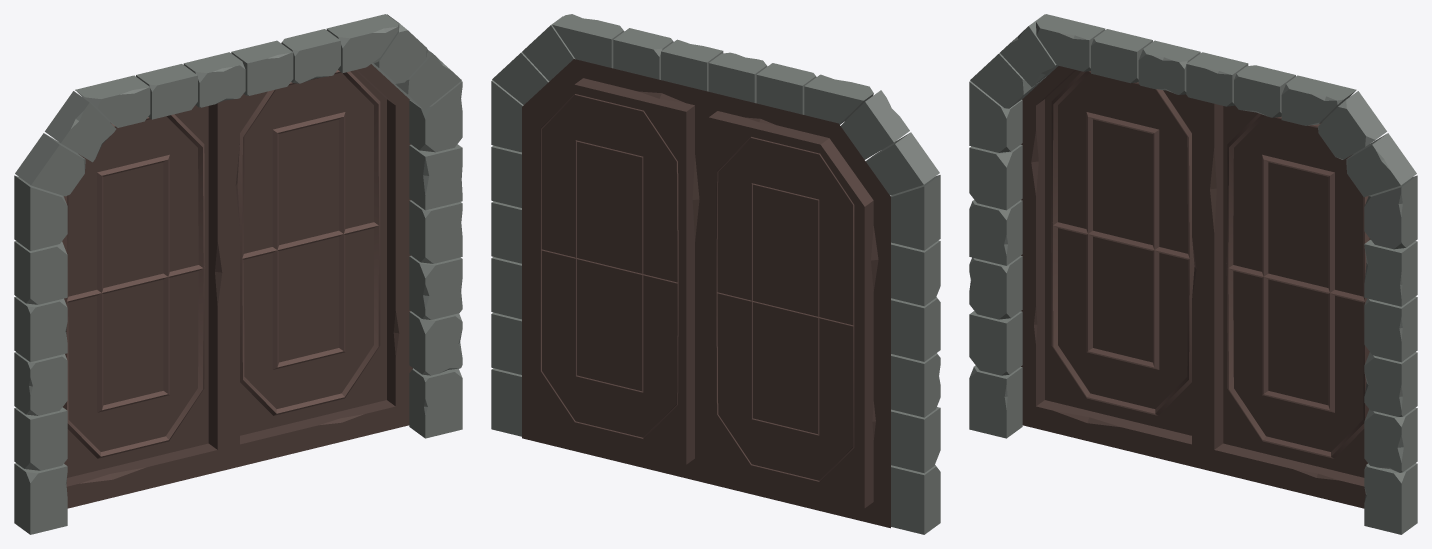
Rendered from SM_Env_Door_19.fbx.
The picture shows the model from 3 angles, left to right: view 1: azimuth 30°, elevation 25°; view 2: azimuth 150°, elevation 25°; view 3: azimuth 330°, elevation 25°; orthographic projection.
Parts seen in each view (by area): view 1: SM_Env_Door_19; view 2: SM_Env_Door_19; view 3: SM_Env_Door_19.
Part boxes in pixels (x1=…): SM_Env_Door_19: x1=14, y1=14, x2=462, y2=534; SM_Env_Door_19: x1=491, y1=14, x2=940, y2=534; SM_Env_Door_19: x1=969, y1=14, x2=1417, y2=534.
Bounding box in the file's own units: 194 × 180 × 21.03.
1 material, 1 textured.
